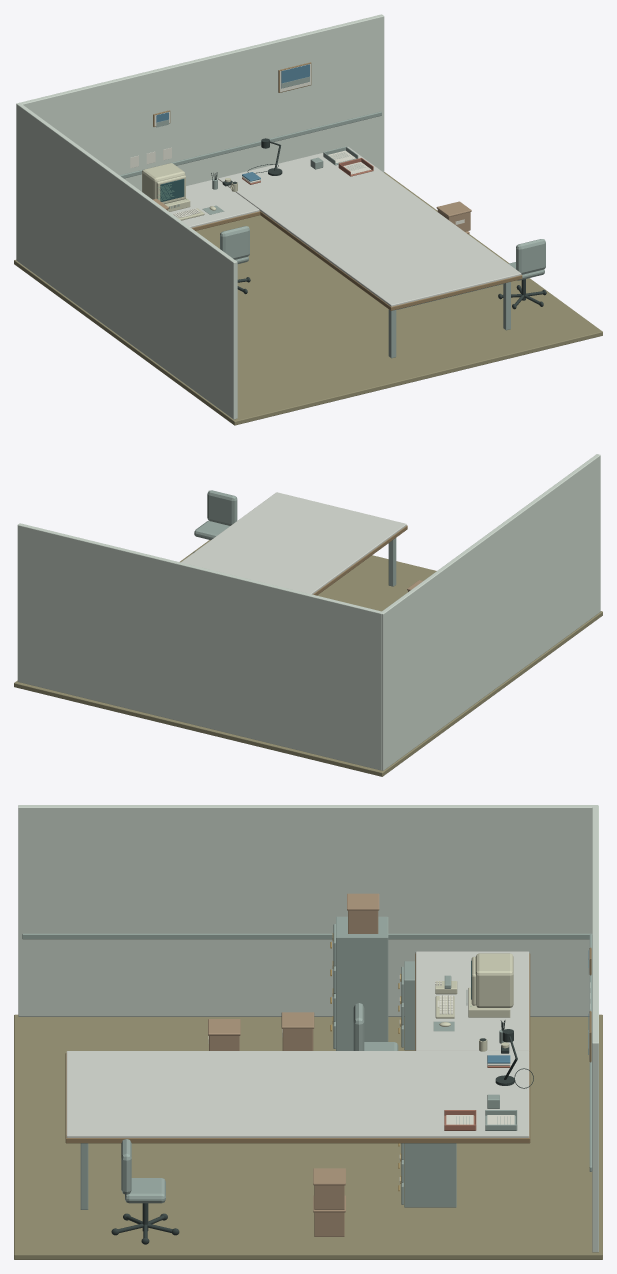
The model's file is office-sandbox.glb.
The picture shows the model from 3 angles, top to bottom: view 1: azimuth 30°, elevation 25°; view 2: azimuth 150°, elevation 25°; view 3: azimuth 270°, elevation 25°; orthographic projection. The views are drawn at different scales.
Parts seen in each view (by area): view 1: aged mint plaster, ochre carpet, warm gray laminate, sage painted steel, oak edging, yellowed ABS, paper, charcoal, archive cardboard, blue book; view 2: aged mint plaster, warm gray laminate, ochre carpet, sage painted steel, oak edging; view 3: aged mint plaster, ochre carpet, warm gray laminate, sage painted steel, archive cardboard, oak edging, yellowed ABS, charcoal, paper.
Boxes of the visible parts, bbox=[...] form: aged mint plaster: bbox=[16, 14, 384, 419]; ochre carpet: bbox=[14, 172, 602, 425]; warm gray laminate: bbox=[170, 146, 521, 306]; sage painted steel: bbox=[120, 76, 545, 358]; oak edging: bbox=[153, 62, 522, 310]; yellowed ABS: bbox=[142, 163, 237, 220]; paper: bbox=[130, 64, 464, 224]; charcoal: bbox=[211, 138, 546, 309]; archive cardboard: bbox=[153, 198, 471, 234]; blue book: bbox=[156, 64, 309, 181]; aged mint plaster: bbox=[17, 454, 600, 770]; warm gray laminate: bbox=[181, 492, 406, 594]; ochre carpet: bbox=[14, 540, 602, 776]; sage painted steel: bbox=[194, 490, 396, 586]; oak edging: bbox=[313, 525, 407, 595]; aged mint plaster: bbox=[18, 805, 598, 1252]; ochre carpet: bbox=[14, 1014, 602, 1259]; warm gray laminate: bbox=[66, 951, 529, 1137]; sage painted steel: bbox=[22, 916, 592, 1209]; archive cardboard: bbox=[208, 893, 379, 1236]; oak edging: bbox=[65, 947, 591, 1143]; yellowed ABS: bbox=[435, 953, 513, 1051]; charcoal: bbox=[111, 1020, 533, 1244]; paper: bbox=[208, 949, 590, 1182].
Bounding box in the file's own units: 5.4 × 2.27 × 5.6.
